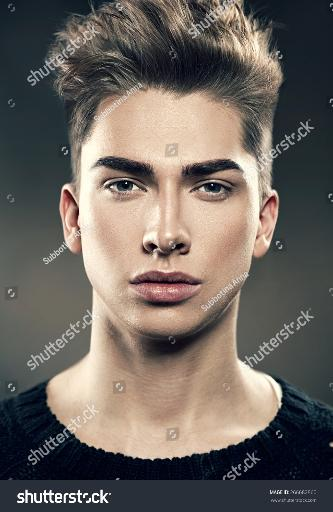left_eye: (190, 180, 238, 203)
left_lip_corner: (193, 279, 206, 295)
right_eye: (102, 177, 149, 199)
right_lip_corner: (126, 275, 140, 292)
